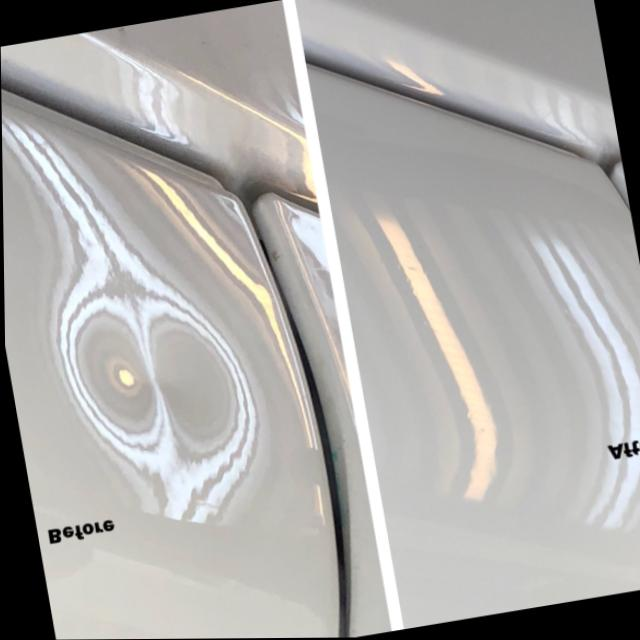Dent: (34, 256, 275, 470)
